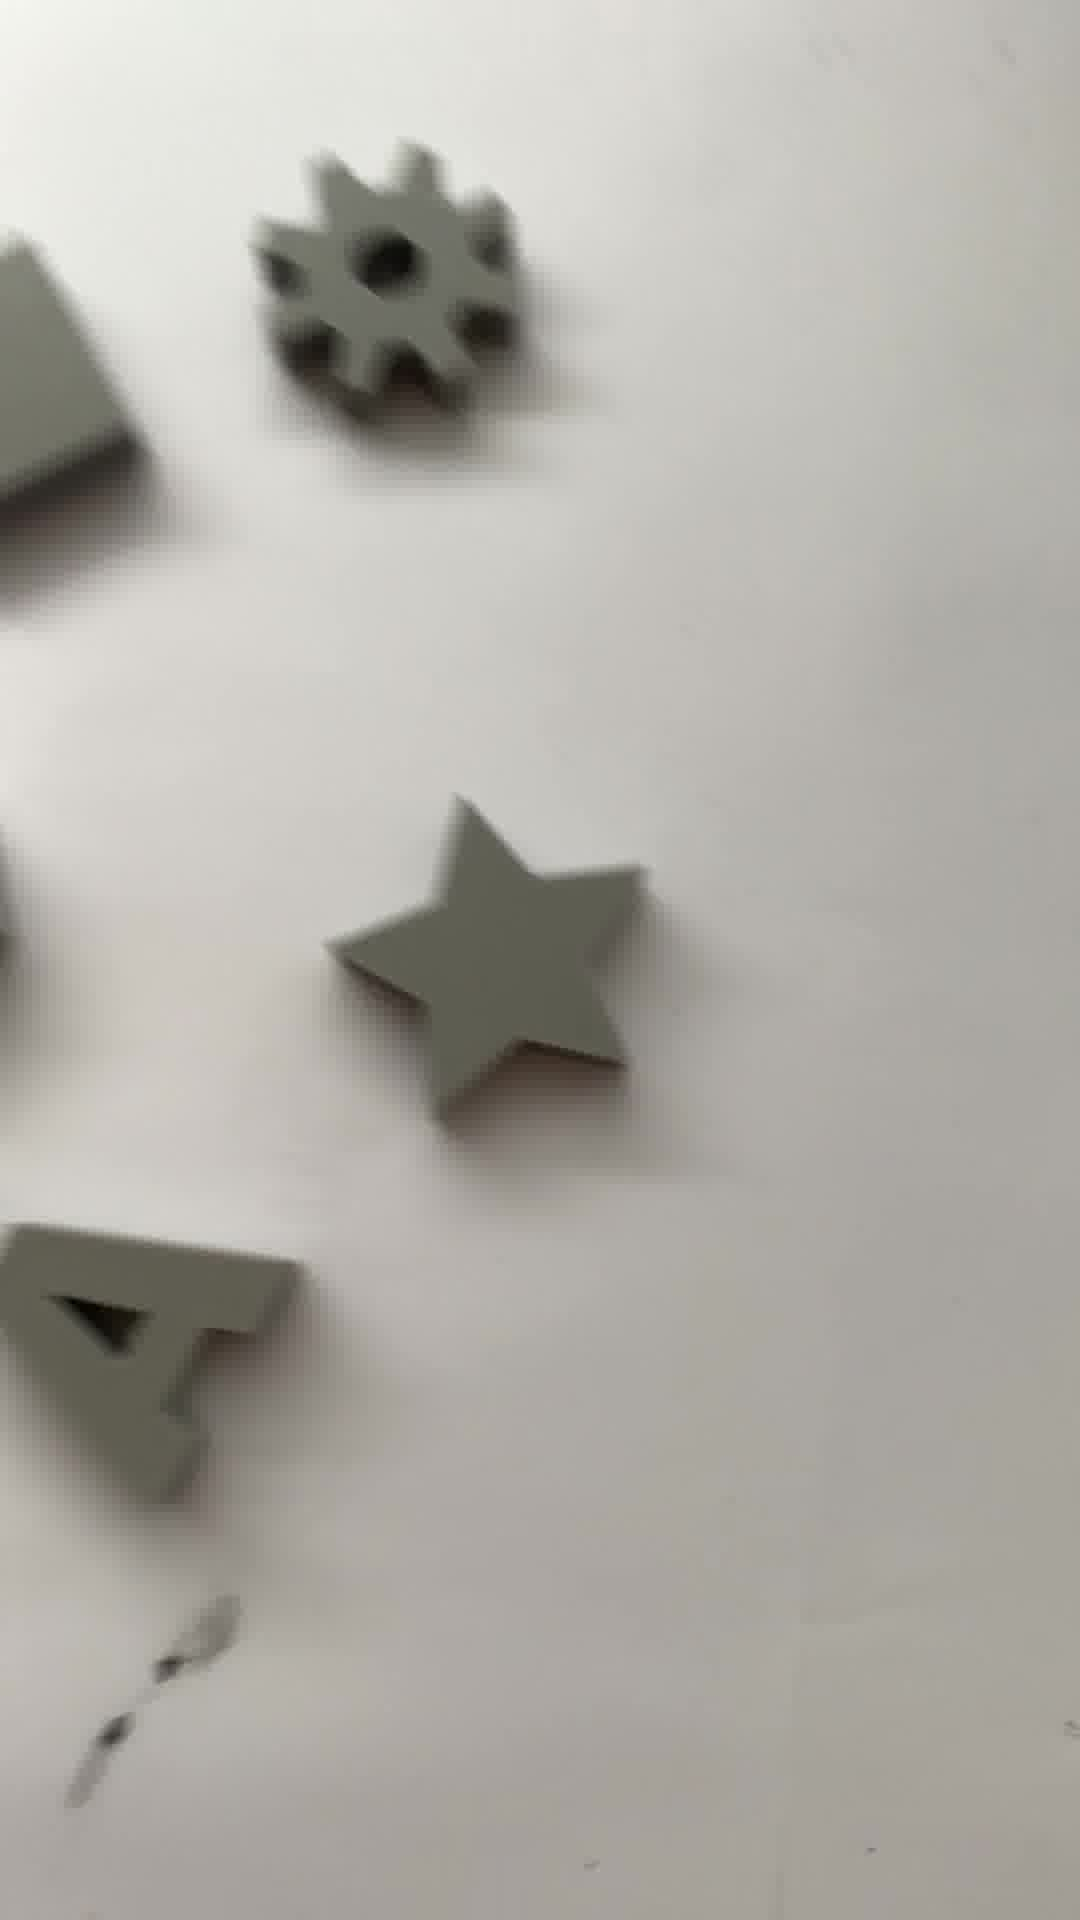Gray A-letter: (1, 1197, 316, 1489)
Gray gear: (239, 140, 521, 429)
Gray star: (324, 787, 658, 1135)
